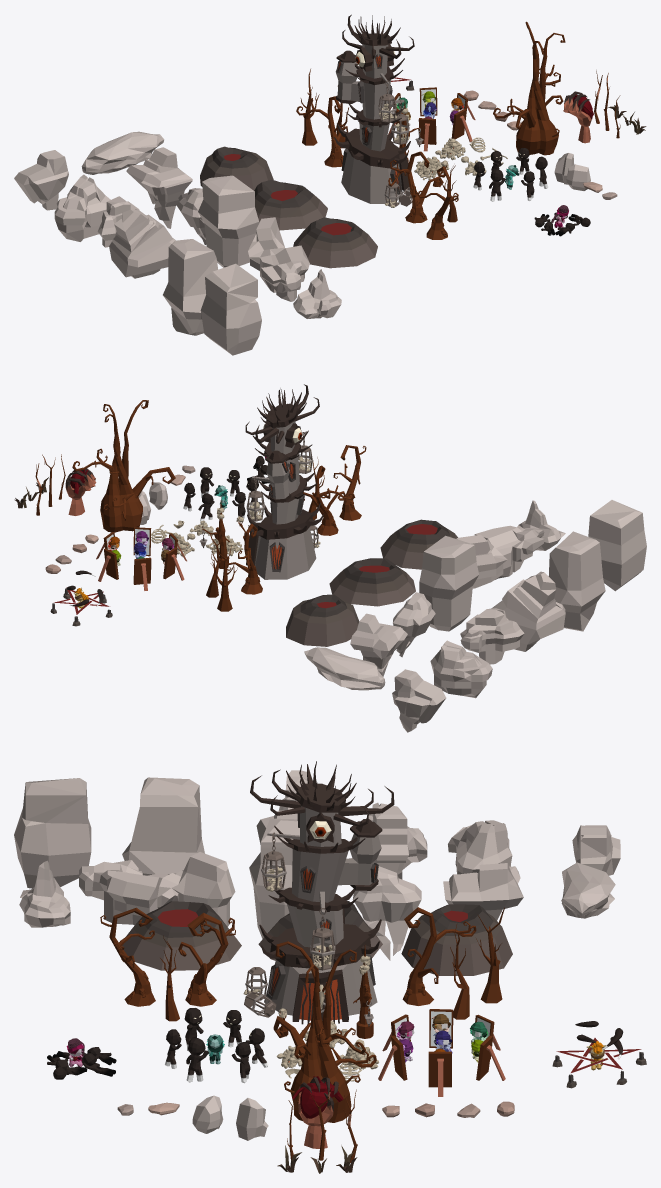
File: Hell.fbx
3 views of the same model, one above another, from view 1: azimuth 30°, elevation 25°; view 2: azimuth 150°, elevation 25°; view 3: azimuth 270°, elevation 25° (orthographic). The views are drawn at different scales.
Visible parts, largest first — view 1: Devil_tower, Rock_2, Rock_1, Rock_3, Rock_5, Watcher_tree, Rock_4, Chemney_2, Chemney_3, Rock_8, Rock_11, Rock_9 (+14 smaller); view 2: Devil_tower, Rock_1, Rock_3, Rock_2, Watcher_tree, Rock_5, Chemney_3, Rock_4, Chemney_1, Lunacy_nightmare, Rock_11, Rock_6 (+14 smaller); view 3: Devil_tower, Rock_4, Rock_2, Rock_3, Watcher_tree, Chemney_1, Chemney_2, Lunacy_nightmare, Illusion_nightmare, Rock_10, Rock_8, Rock_1 (+19 smaller).
Part boxes in pixels (box(x1,y1,x2,y2)): Devil_tower: box(334, 14, 414, 207); Rock_2: box(200, 263, 261, 355); Rock_1: box(198, 175, 259, 267); Rock_3: box(163, 239, 218, 335); Rock_5: box(109, 209, 175, 278); Watcher_tree: box(493, 21, 565, 155); Rock_4: box(248, 217, 309, 301); Chemney_2: box(293, 217, 377, 268); Chemney_3: box(254, 179, 327, 230); Rock_8: box(126, 147, 192, 228); Rock_11: box(54, 174, 110, 241); Rock_9: box(81, 131, 164, 174); Devil_tower: box(245, 384, 323, 579); Rock_1: box(419, 535, 478, 631); Rock_3: box(548, 531, 605, 631); Rock_2: box(588, 500, 646, 591); Watcher_tree: box(72, 400, 175, 532); Rock_5: box(491, 571, 565, 651); Chemney_3: box(329, 558, 415, 606); Rock_4: box(456, 525, 544, 588); Chemney_1: box(286, 594, 359, 646); Lunacy_nightmare: box(96, 527, 186, 590); Rock_11: box(430, 640, 492, 698); Rock_6: box(460, 608, 524, 664); Devil_tower: box(243, 761, 394, 1024); Rock_4: box(79, 852, 235, 926); Rock_2: box(14, 778, 91, 888); Rock_3: box(122, 777, 204, 875); Watcher_tree: box(273, 941, 376, 1122); Chemney_1: box(401, 904, 512, 975); Chemney_2: box(122, 901, 241, 970); Lunacy_nightmare: box(378, 1009, 505, 1096); Illusion_nightmare: box(165, 1008, 268, 1083); Rock_10: box(352, 866, 421, 960); Rock_8: box(443, 863, 523, 920); Rock_1: box(249, 818, 299, 938).
Size of the model in its own units: 9113 by 3566 by 6849.
